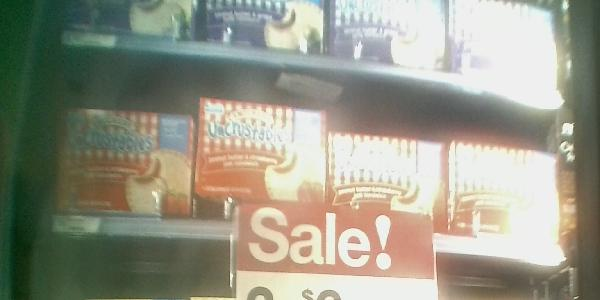icecream: (200, 99, 330, 212), (59, 108, 192, 218), (448, 135, 561, 246), (458, 3, 565, 97), (332, 138, 442, 221), (334, 3, 453, 77), (198, 1, 325, 56)
